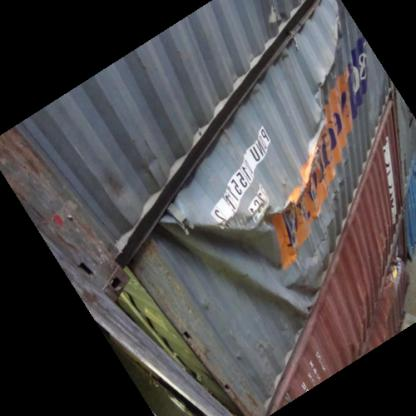Damage: (161, 204, 330, 316), (276, 73, 334, 219), (308, 7, 381, 112)
